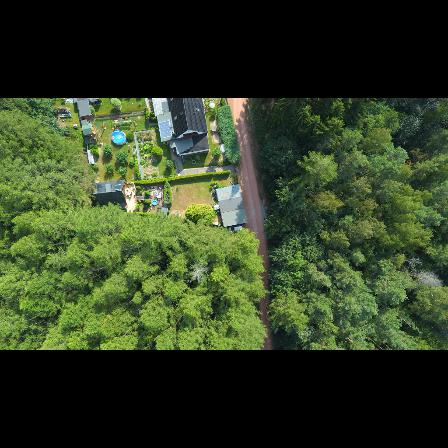Dead: (185, 262, 212, 283), (415, 272, 444, 289), (405, 257, 424, 268)
